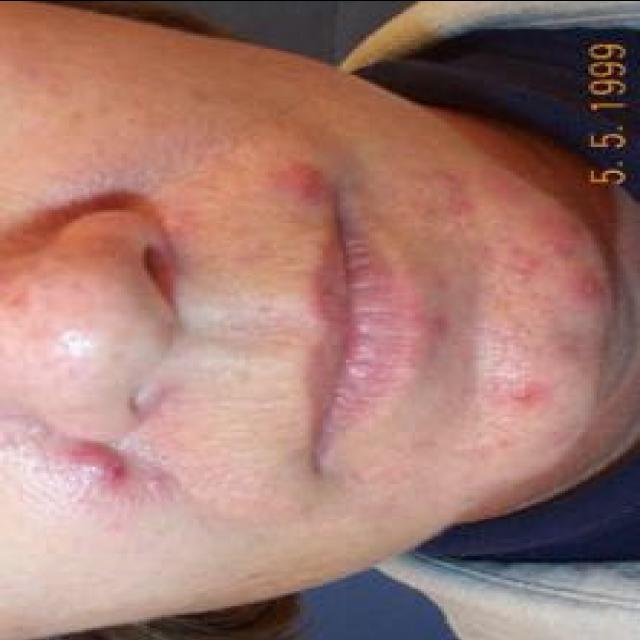Acne: (52, 440, 128, 490), (269, 161, 325, 205), (484, 377, 540, 407), (560, 262, 604, 300), (138, 470, 170, 496)
